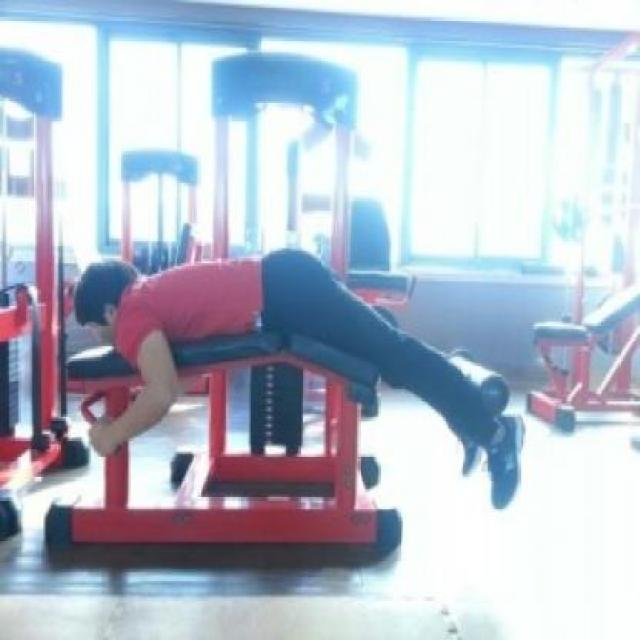reg curl machine: (35, 48, 528, 578)
